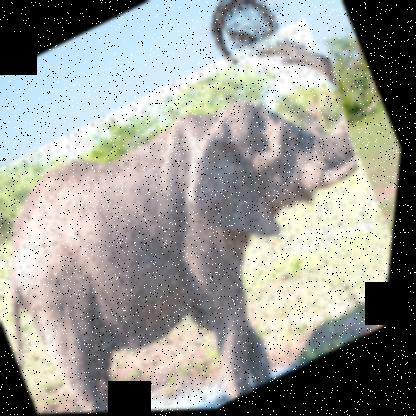Elephas-maximus: (0, 15, 413, 415)
